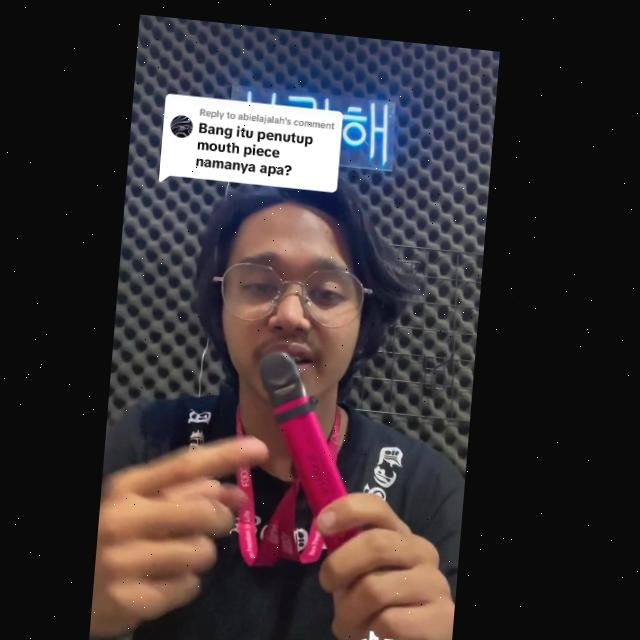vape: (247, 341, 382, 547)
